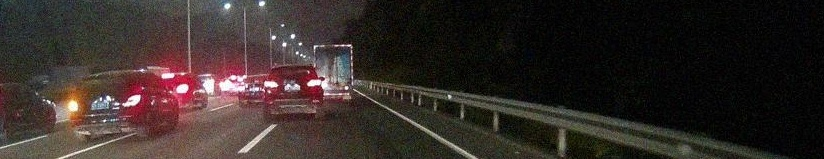L_light: (70, 100, 79, 111), (264, 81, 278, 88)
R_light: (122, 94, 141, 106), (306, 79, 321, 86)
T_light: (106, 74, 117, 78), (286, 67, 296, 70)
night-left: (69, 69, 142, 142)
night-no: (263, 64, 322, 120)
